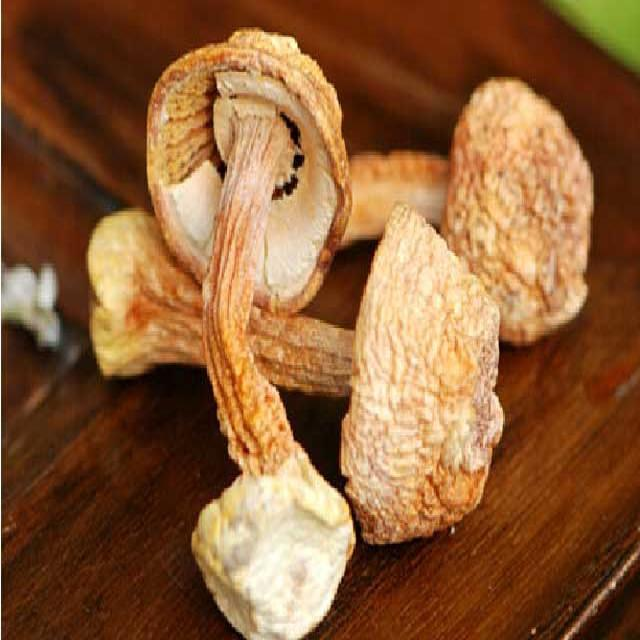Agaricus blazei Murill: (91, 210, 500, 532), (149, 31, 356, 637), (281, 78, 593, 342)
